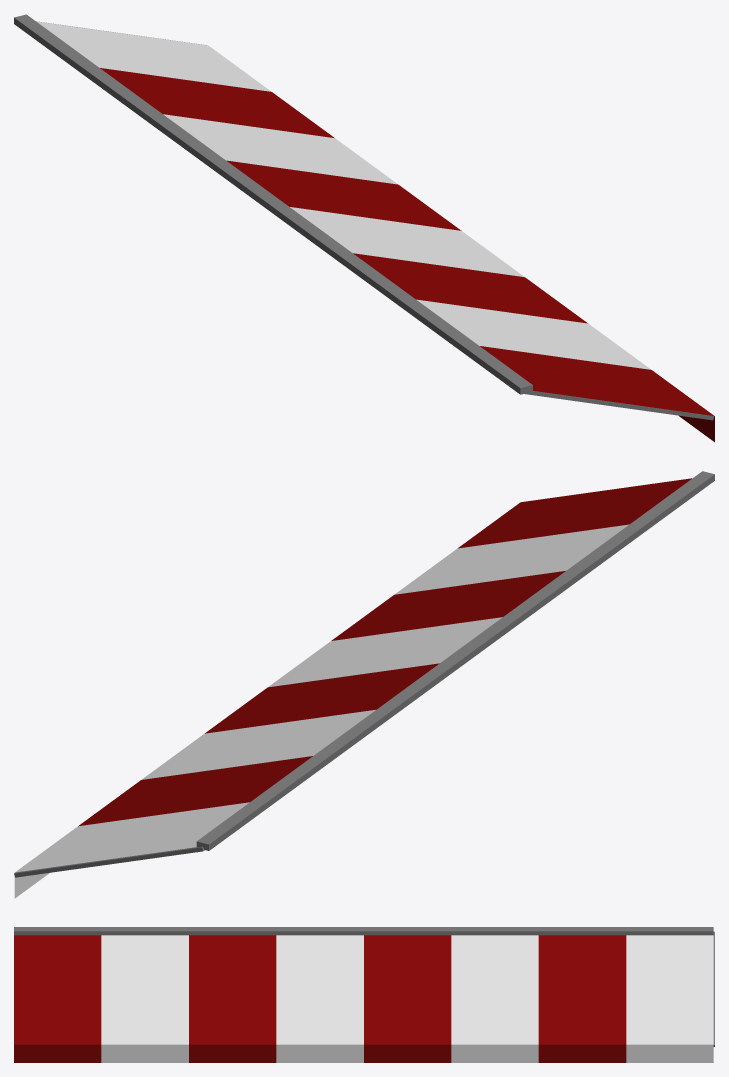
File: SM_shopCanopy_01.gltf
3 renders of one model, top to bottom at view 1: azimuth 30°, elevation 25°; view 2: azimuth 150°, elevation 25°; view 3: azimuth 270°, elevation 25°, orthographic. The views are drawn at different scales.
Parts seen in each view (by area): view 1: SM_shopCanopy_01; view 2: SM_shopCanopy_01; view 3: SM_shopCanopy_01.
Boxes of the visible parts, box(x1,y1,x2,y2) form: SM_shopCanopy_01: box(14, 14, 714, 442); SM_shopCanopy_01: box(14, 471, 714, 898); SM_shopCanopy_01: box(14, 927, 714, 1062).
Bounding box in the file's own units: 1.55 × 0.775 × 7.
3 materials, 1 textured.
